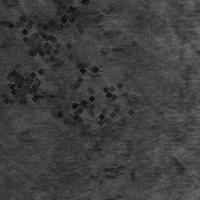rolled-in_scale: (34, 59, 136, 180), (38, 45, 142, 149), (0, 0, 75, 78), (2, 3, 118, 39), (37, 0, 105, 47), (0, 58, 45, 110)
